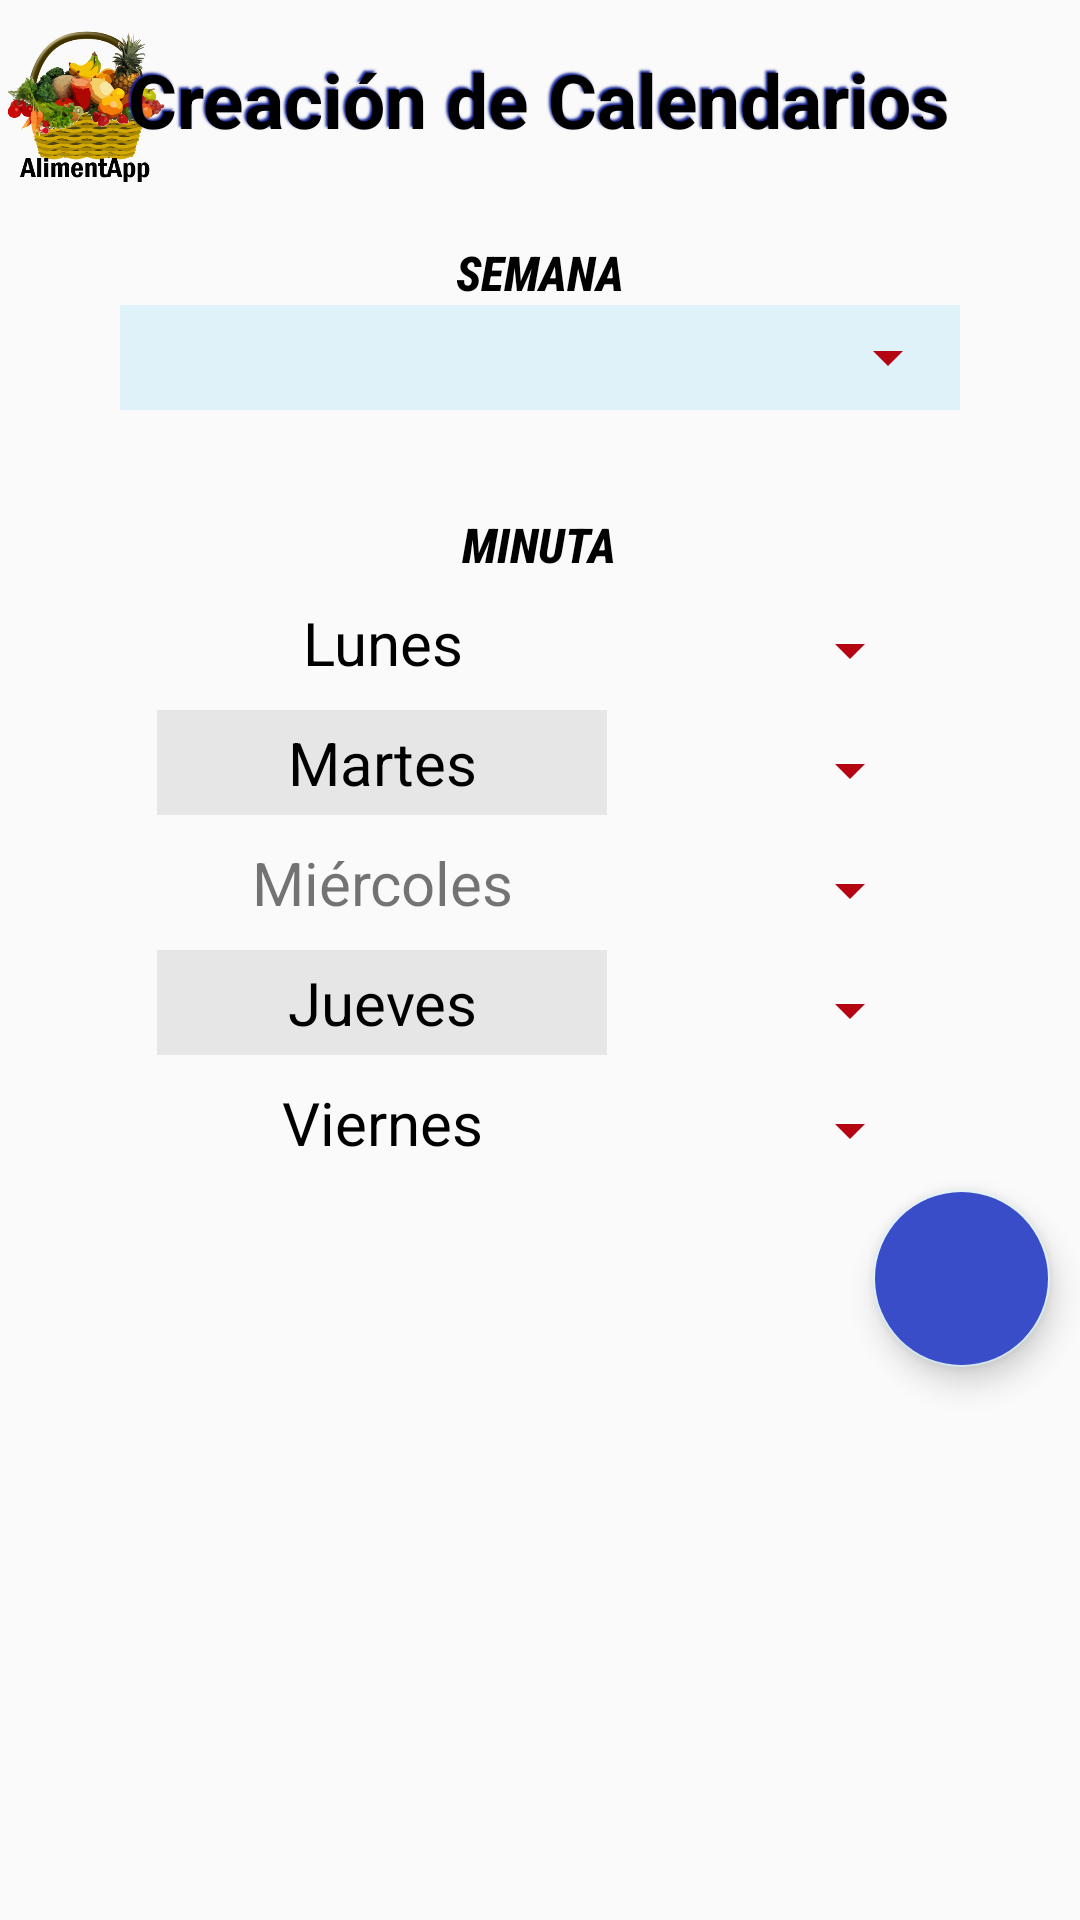

Named icons in this screenshot (1080*1920) and their bounding boxes, (x1, y1, x2, y2):
iconosuperior: (8, 31, 165, 182)
